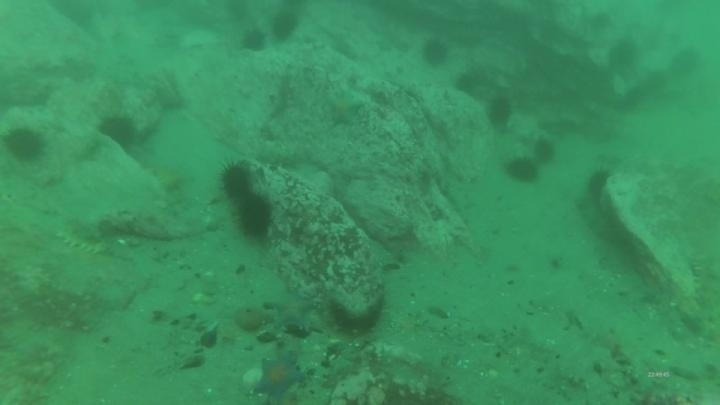echinus: (234, 193, 275, 240), (97, 112, 140, 153), (2, 125, 47, 164), (217, 160, 255, 201), (606, 37, 641, 72), (668, 45, 703, 80), (504, 155, 541, 186), (484, 94, 515, 131), (268, 10, 301, 43), (583, 167, 614, 202), (419, 36, 451, 68), (453, 70, 483, 99), (531, 136, 558, 166), (239, 27, 268, 54)
holothurian: (685, 253, 720, 323), (53, 220, 115, 258)
starfish: (252, 352, 306, 401), (264, 287, 319, 333), (324, 88, 366, 128)
